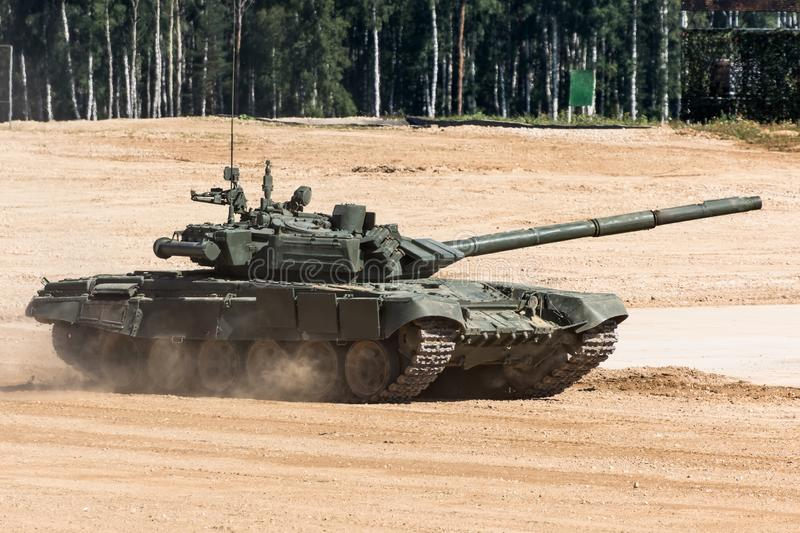t72: (26, 191, 759, 390)
